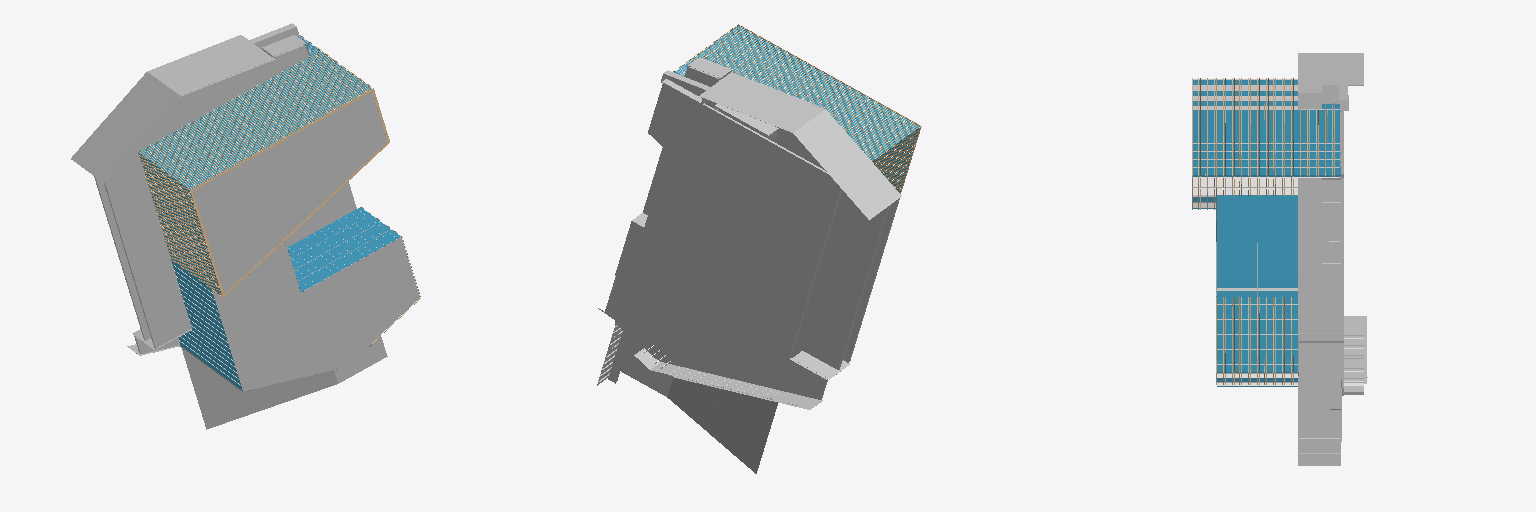
File: Site5-1.obj
3 renders of one model, left to right at view 1: azimuth 30°, elevation 25°; view 2: azimuth 150°, elevation 25°; view 3: azimuth 270°, elevation 25°, orthographic.
Bounding box in the file's own units: 219 × 279 × 116.